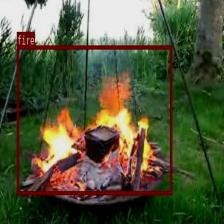fire: (17, 45, 172, 194)
